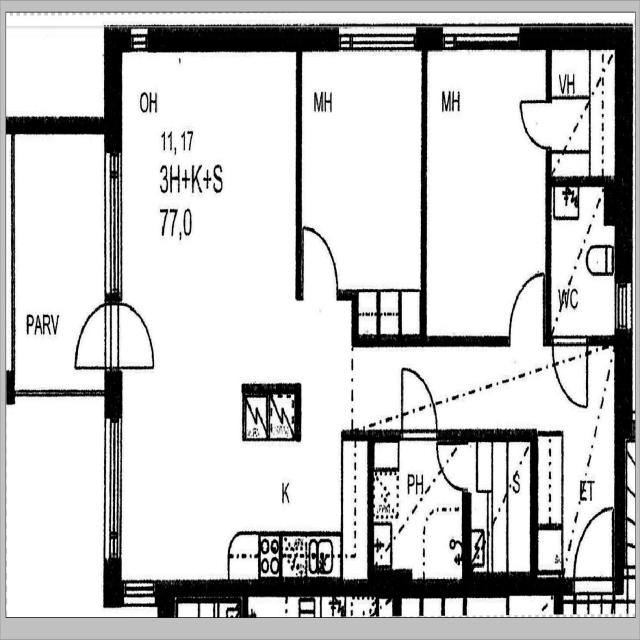door: (372, 434, 470, 576), (108, 298, 159, 374), (300, 220, 343, 302), (574, 506, 616, 589), (504, 264, 548, 340), (398, 366, 443, 438), (550, 334, 591, 412), (72, 299, 117, 369), (433, 441, 474, 498), (514, 90, 553, 149)
window: (99, 406, 129, 568), (99, 142, 129, 304), (436, 21, 524, 57), (336, 21, 417, 59), (121, 577, 161, 614), (613, 276, 634, 336), (126, 21, 152, 55)
zone: (112, 39, 307, 537), (423, 46, 548, 344), (297, 44, 424, 290), (8, 124, 112, 398), (370, 437, 466, 582), (549, 182, 619, 343), (547, 44, 619, 180), (468, 436, 532, 580)
